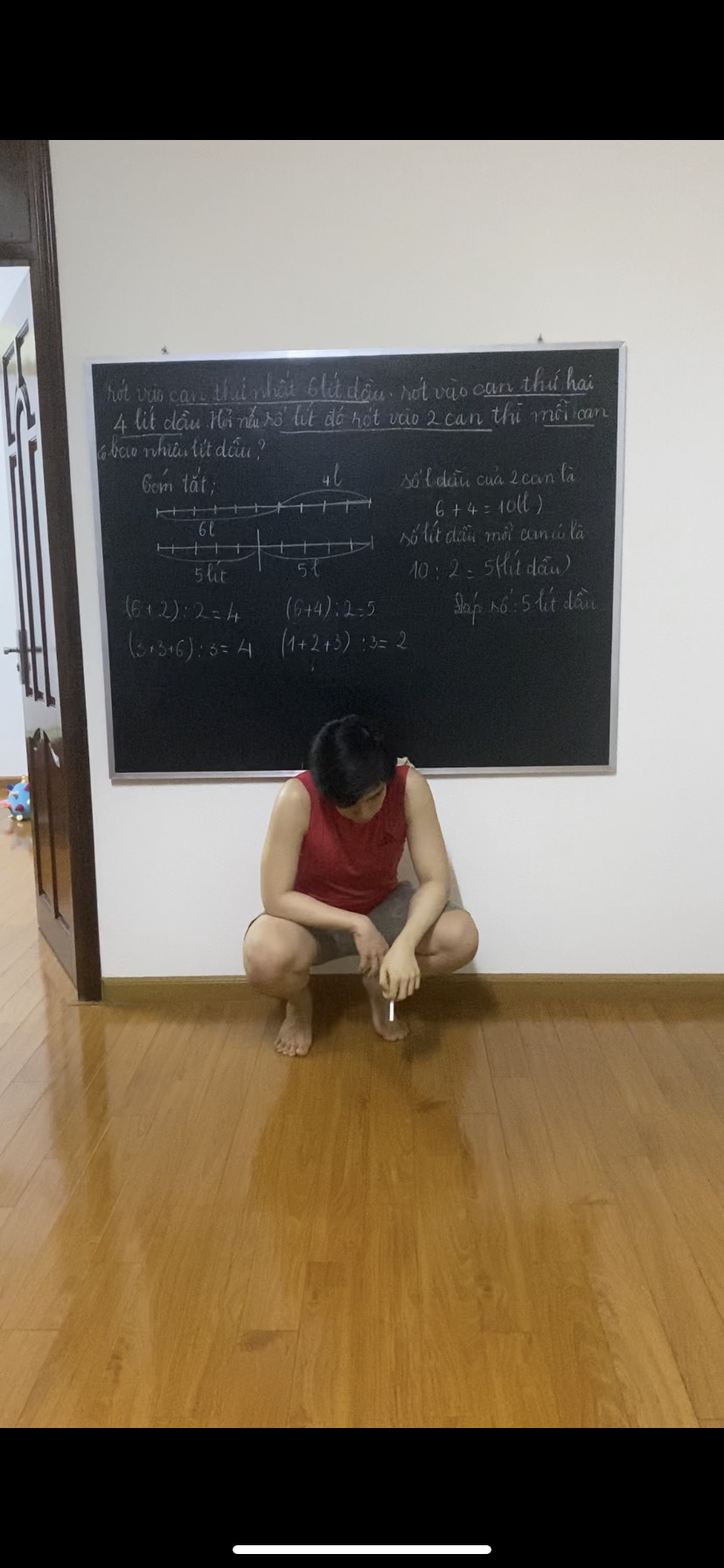cigarette: (384, 998, 398, 1024)
person: (242, 714, 477, 1054)
